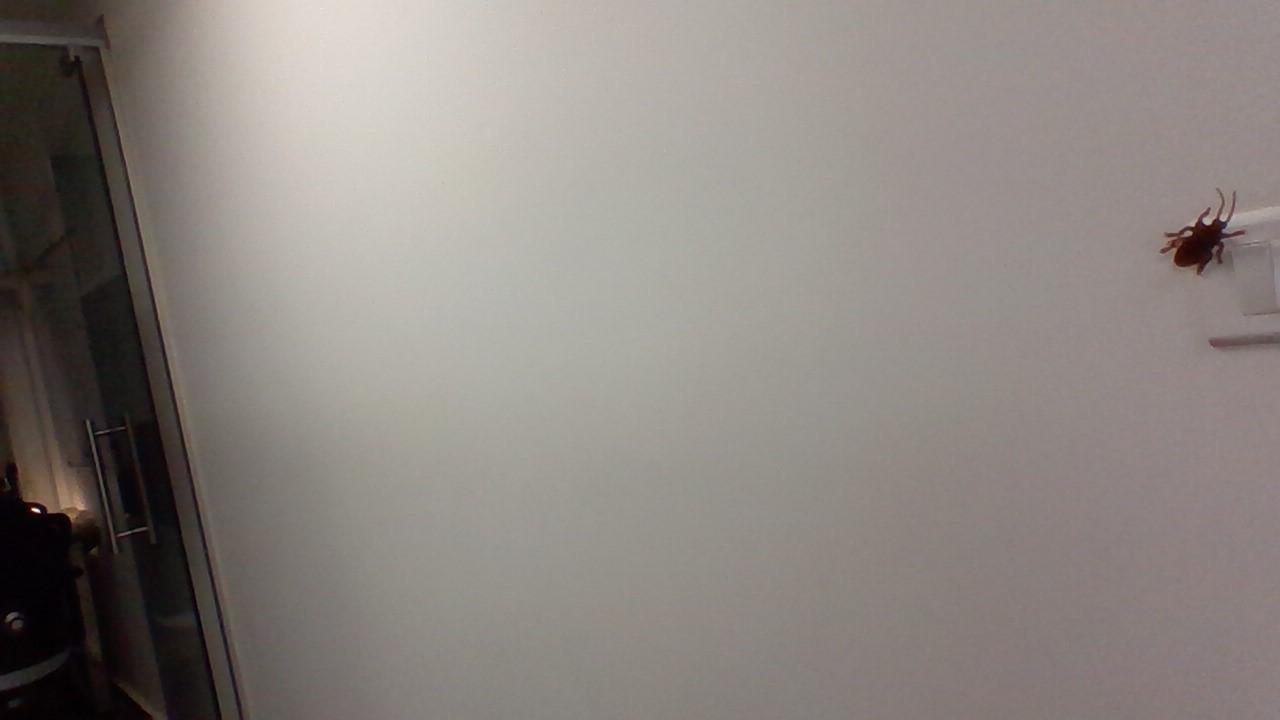cockroach: (1152, 163, 1263, 309)
